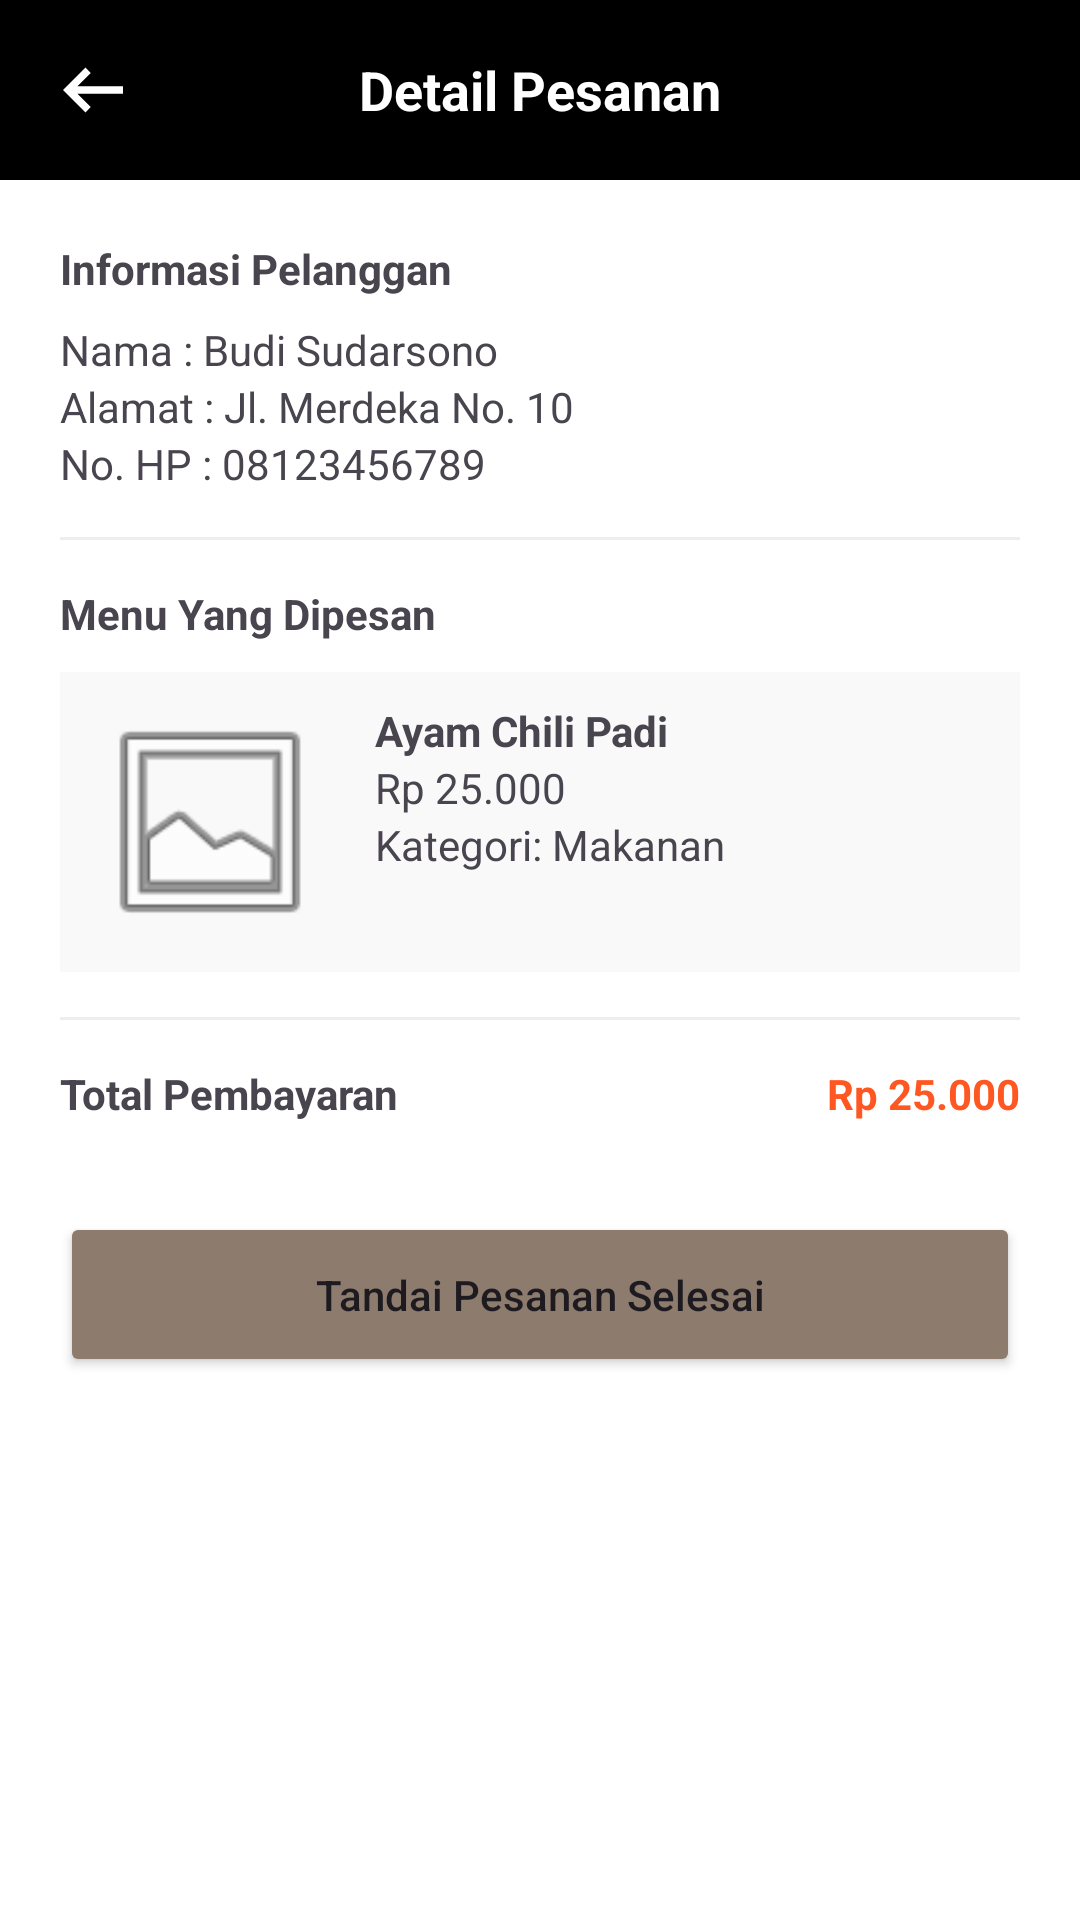

Icons on this 1080 x 1920 Android screen, each with its box as bbox(x1, y1, x2, y2):
back: bbox(63, 67, 123, 113)
gallery: bbox(119, 731, 301, 913)
